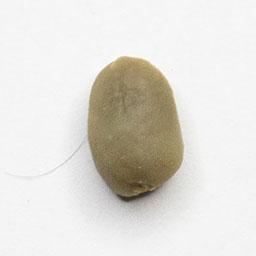peaberry: (83, 51, 187, 201)
